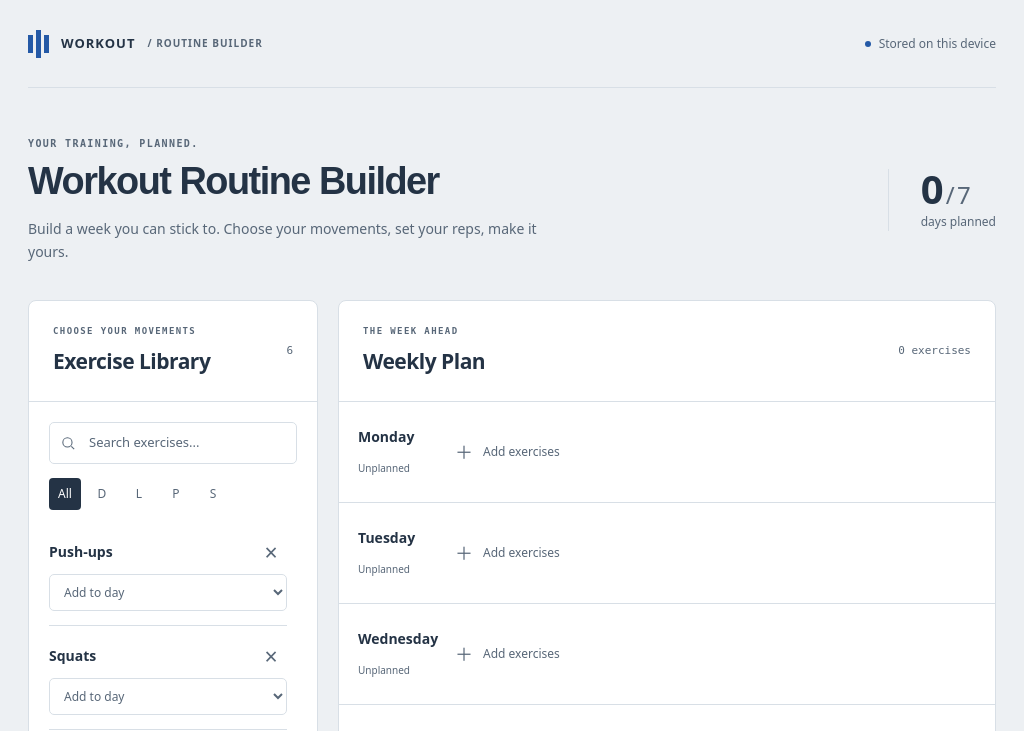
Scenario: App Integration Tests › Remove exercise from a day
Select "Monday" in the dropdown named "Add Squats to day" at coordinates (168, 696), box [49,678,287,715]
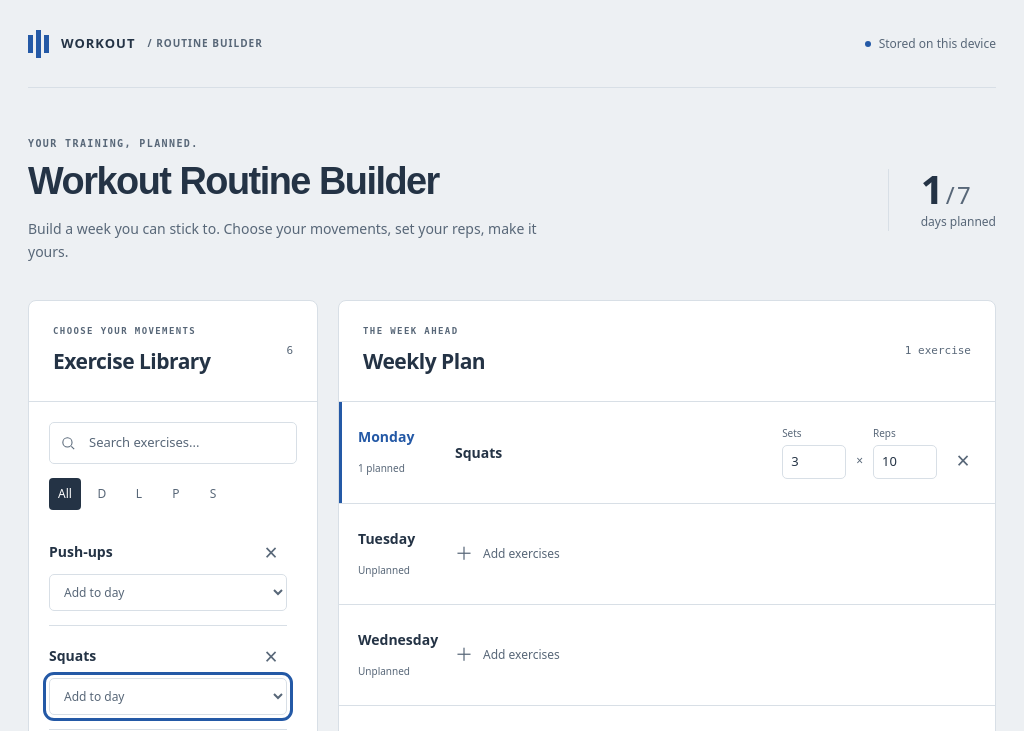
Click the button named "Remove exercise" at coordinates (963, 460), box [947,444,979,476]
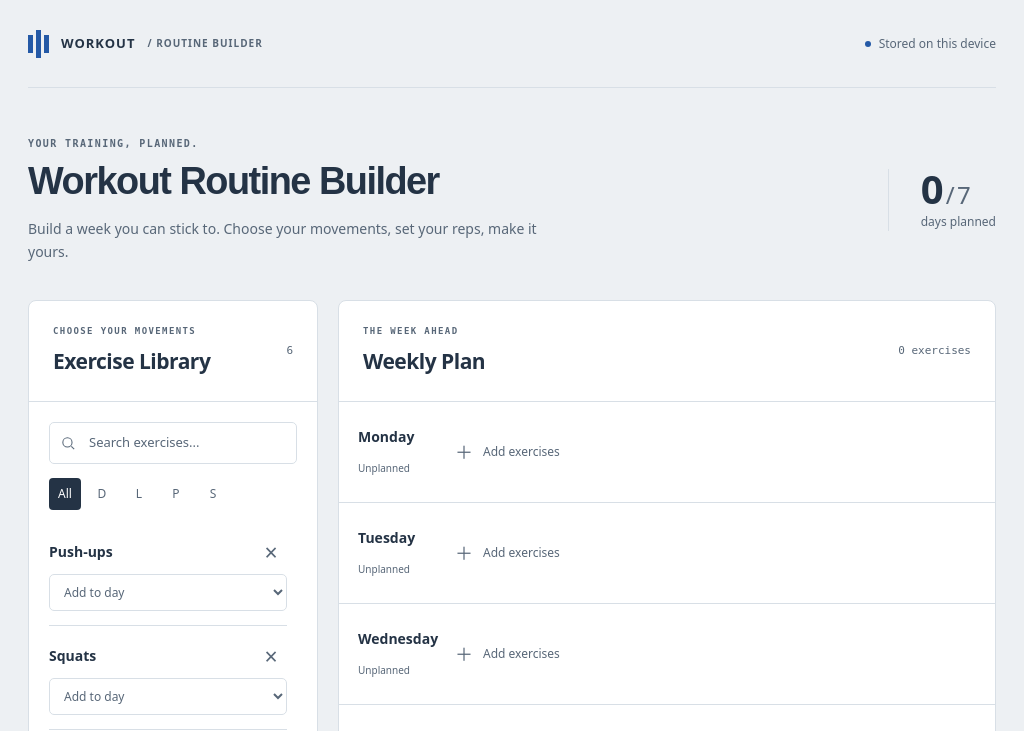
Check: the text "0 exercises" is shown, box [898,343,971,360]
